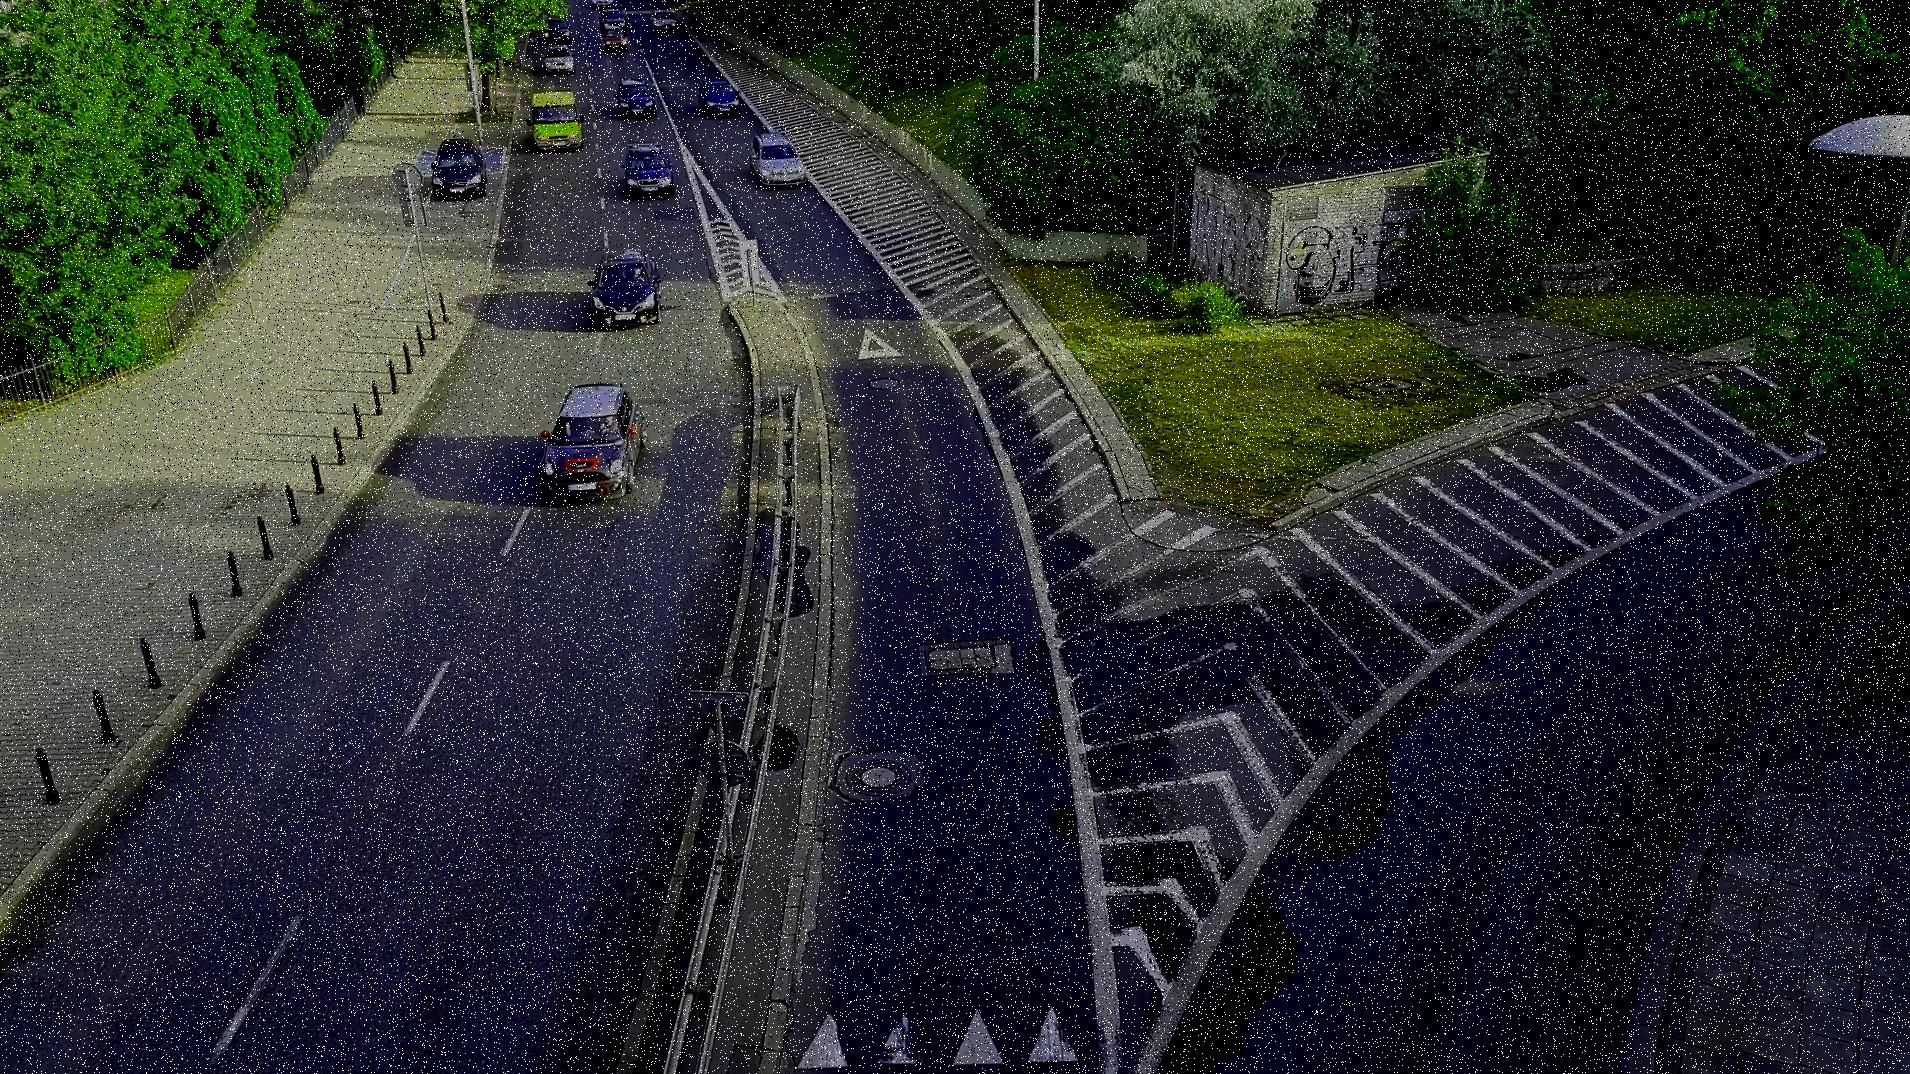car: (535, 379, 651, 509), (589, 241, 665, 323), (426, 131, 488, 203), (529, 87, 585, 153), (745, 127, 809, 182), (620, 138, 674, 199), (615, 73, 657, 118), (698, 75, 742, 114)
